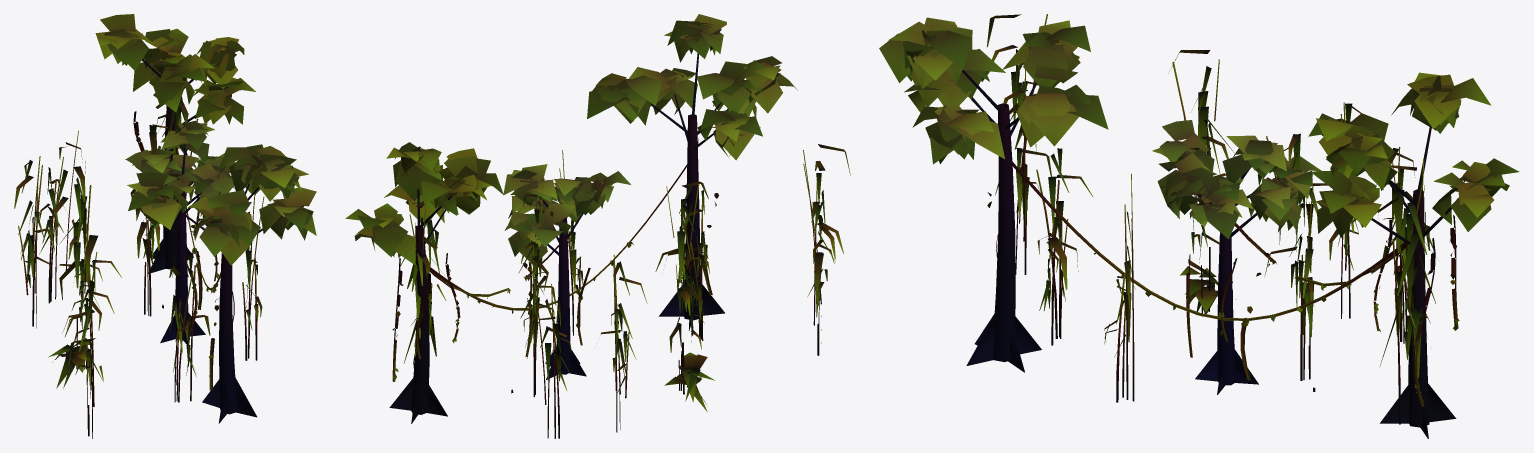
The model's file is patch_grove_far.glb.
3 renders of one model, left to right at view 1: azimuth 30°, elevation 25°; view 2: azimuth 150°, elevation 25°; view 3: azimuth 270°, elevation 25°, orthographic. The views are drawn at different scales.
Parts seen in each view (by area): view 1: patch_grove_far; view 2: patch_grove_far; view 3: patch_grove_far.
Boxes of the visible parts, x1,y1,x2,y2 form: patch_grove_far: (14,14,316,438); patch_grove_far: (345,14,850,438); patch_grove_far: (879,14,1519,438).
Size of the model in its own units: 14.41 by 11.94 by 19.62.
Materials: 1 (1 with a texture image).
